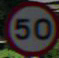Speed limit: (8, 4, 50, 51)
